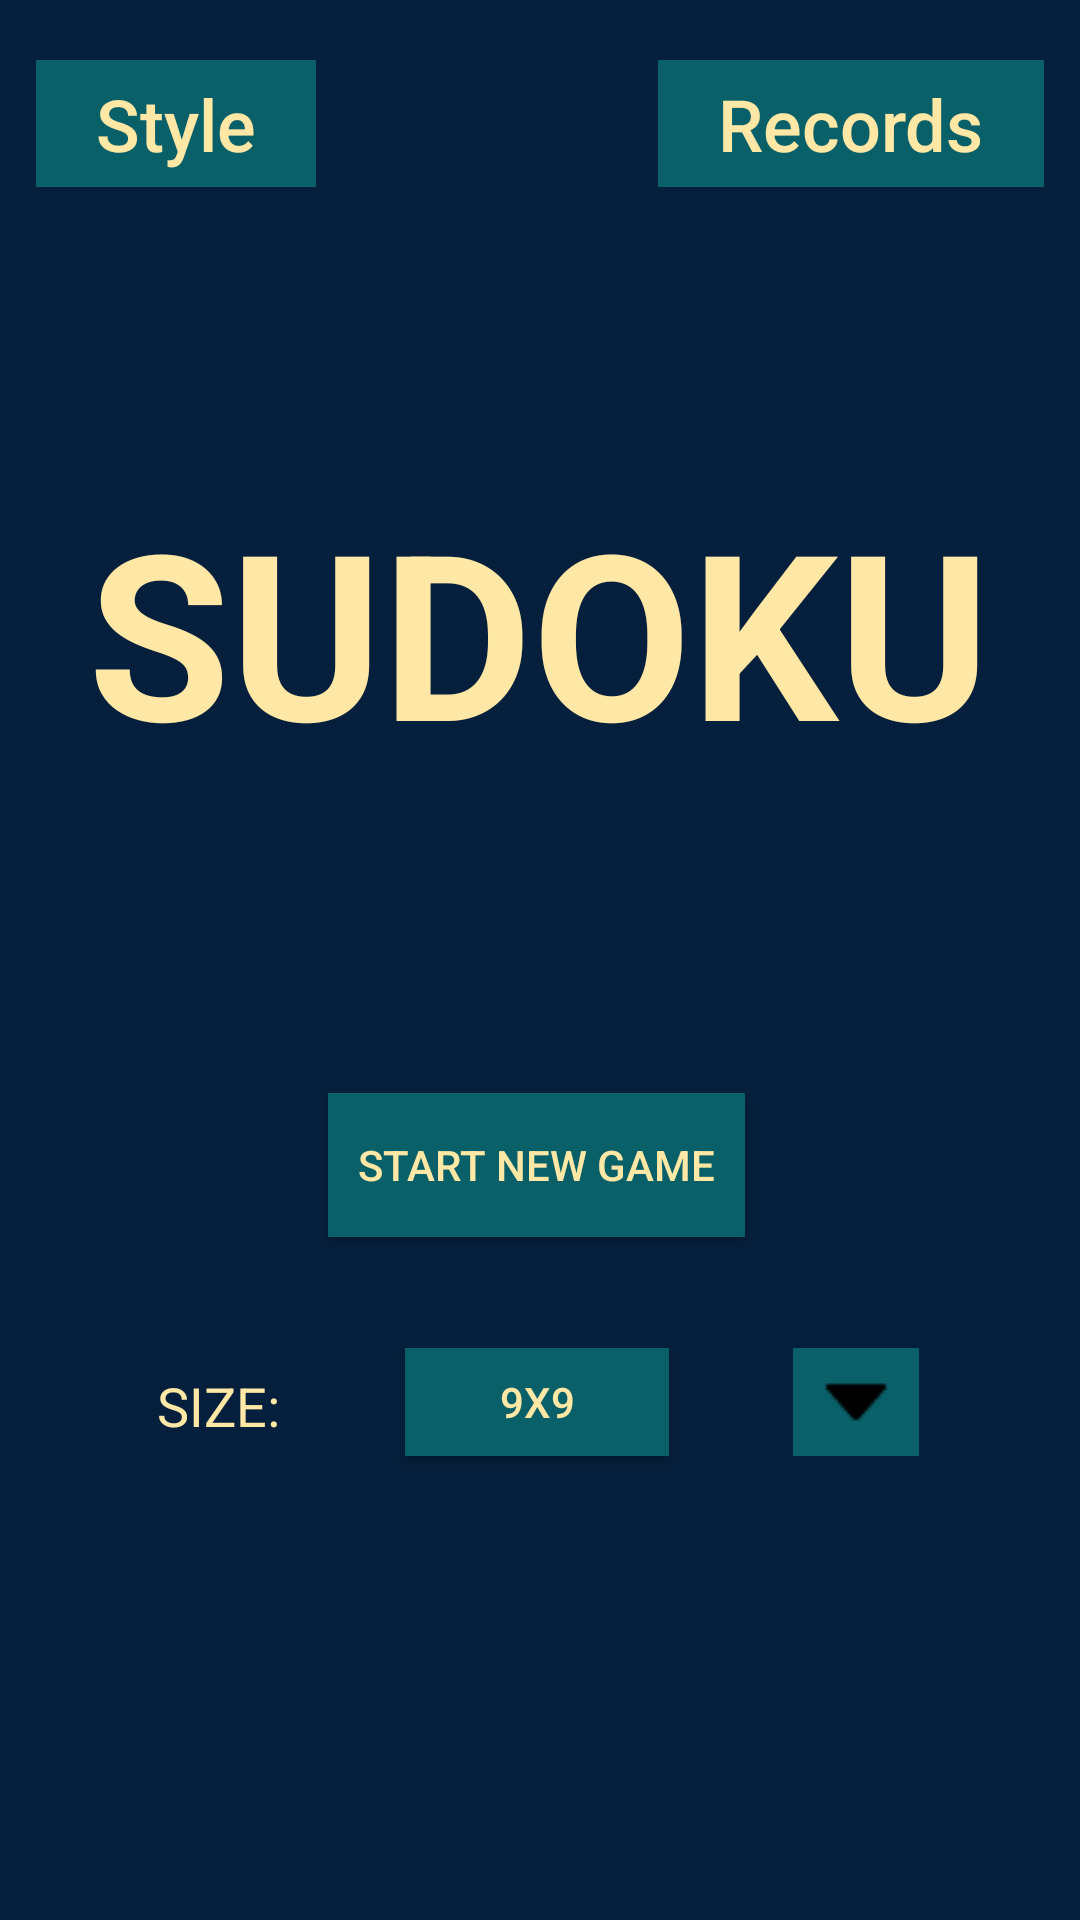

Icon click points for this 1080px x 1920px phone screenshot, format (x=x, y=y):
arrow down: (x=856, y=1402)
